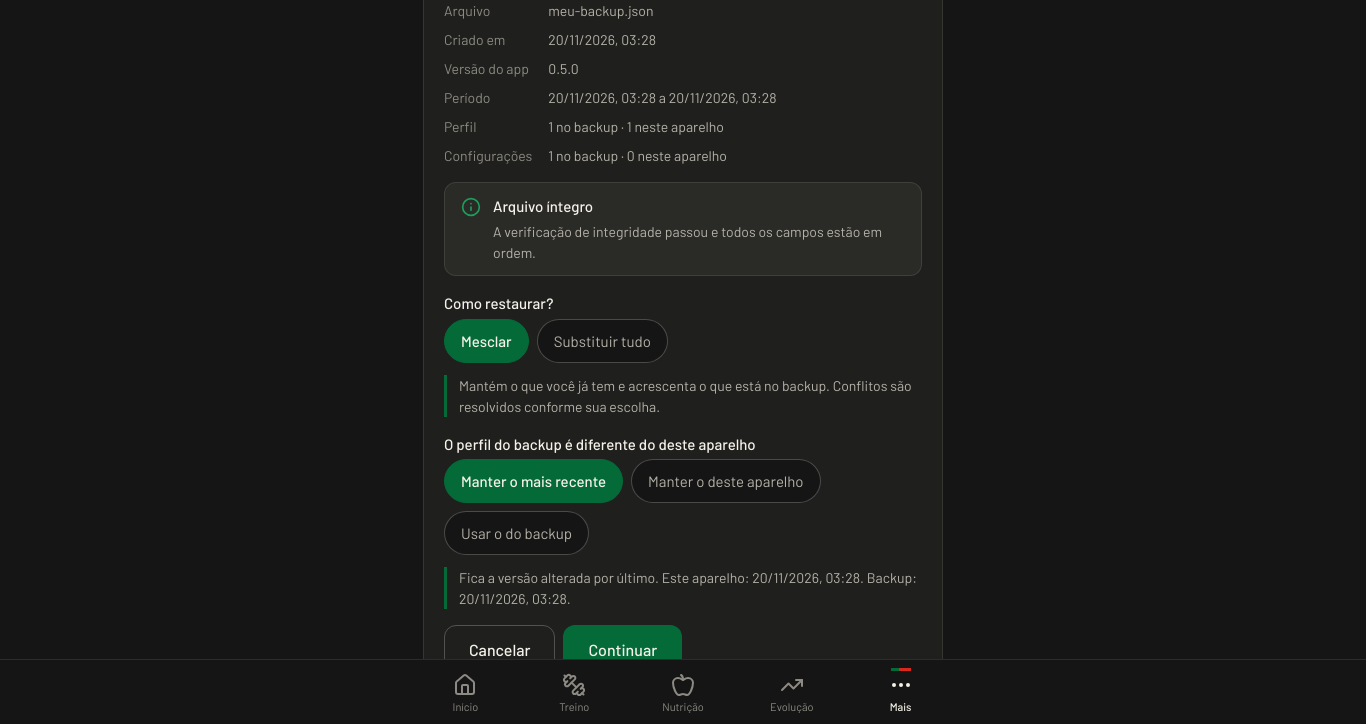
restaurar › segue o caminho completo: revisar, proteger, confirmar e restaurar
Earlier steps of the test are not shown.
Later steps or results of the test are not shown.
(page scrolled)
expect the text "Arquivo íntegro" is shown: met, box [493, 197, 593, 215]
Click the radio button labelled "Substituir tudo".
click(602, 341)  # box [537, 319, 668, 363]
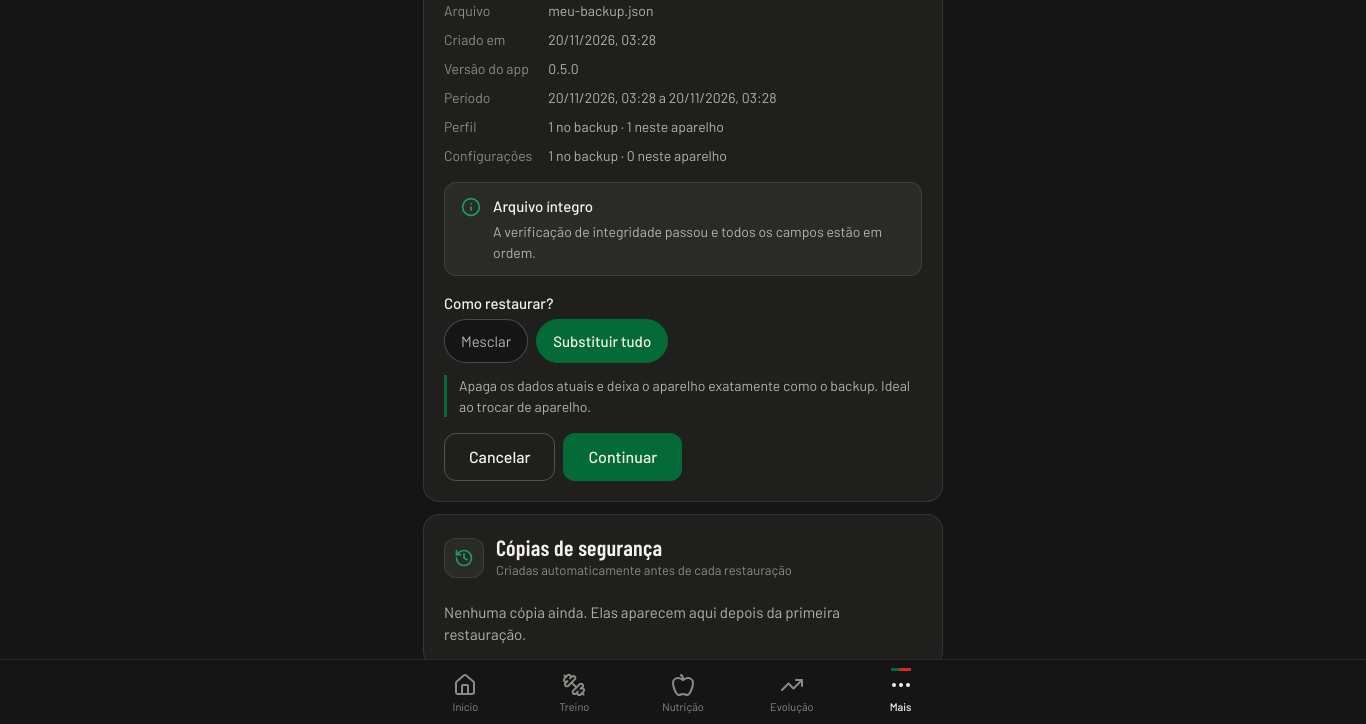
Click the button "Continuar".
click(623, 457)  # box [563, 433, 682, 481]
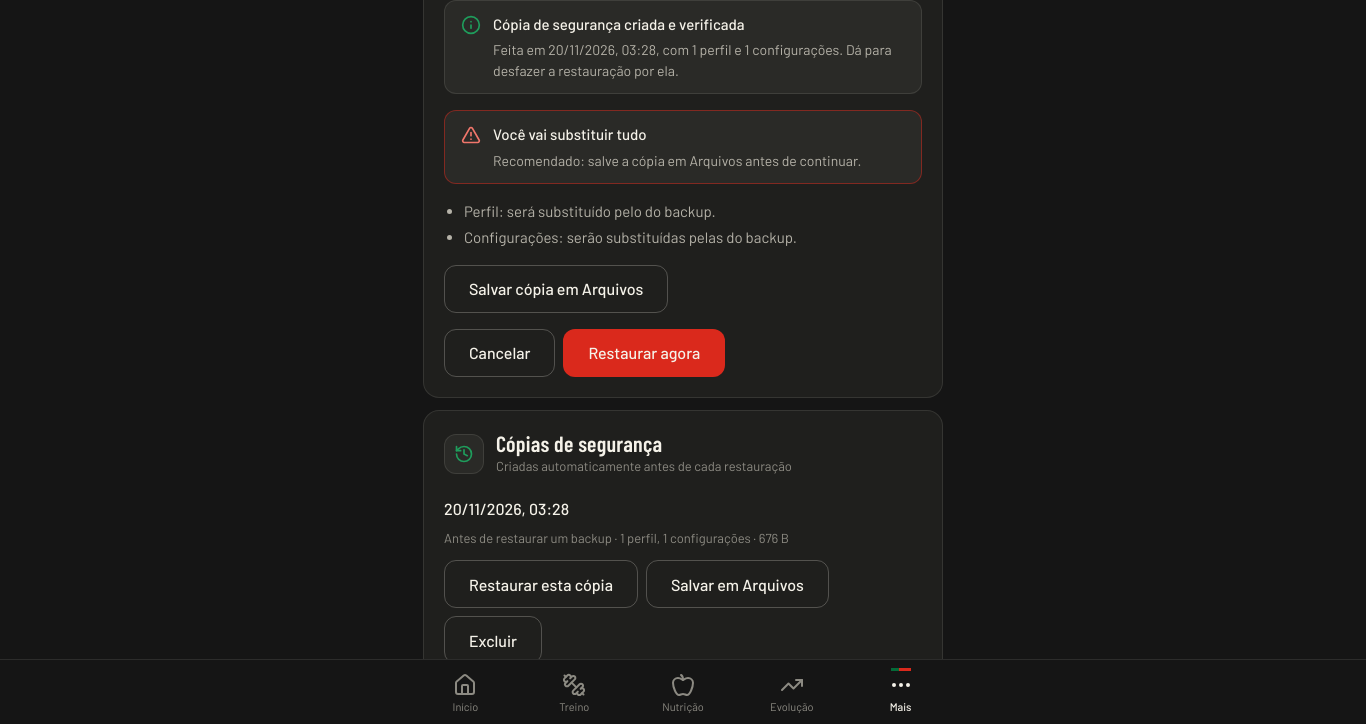
expect the text "Cópia de segurança criada e verificada" is shown: met, box [493, 15, 745, 33]
Click the button "Restaurar agora".
click(644, 353)  # box [563, 329, 725, 377]
(page scrolled)
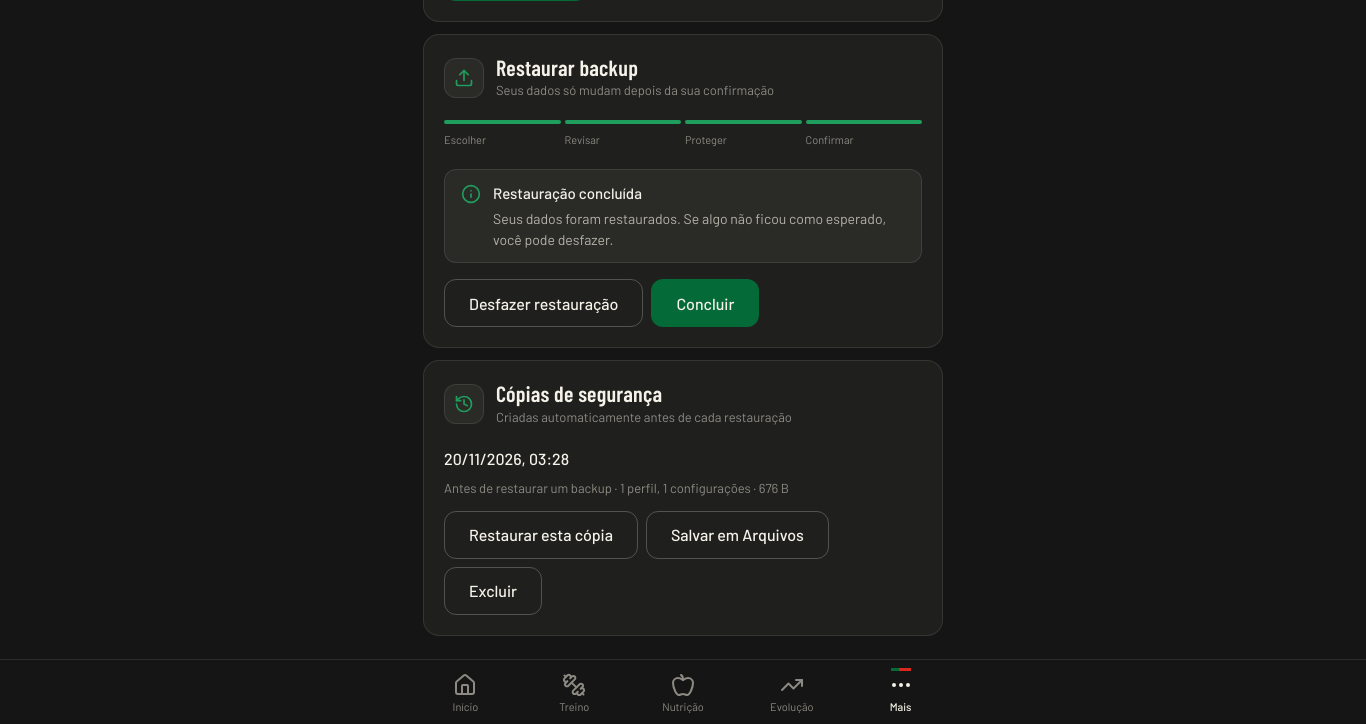
expect the text "Restauração concluída" is shown: met, box [493, 184, 642, 202]
